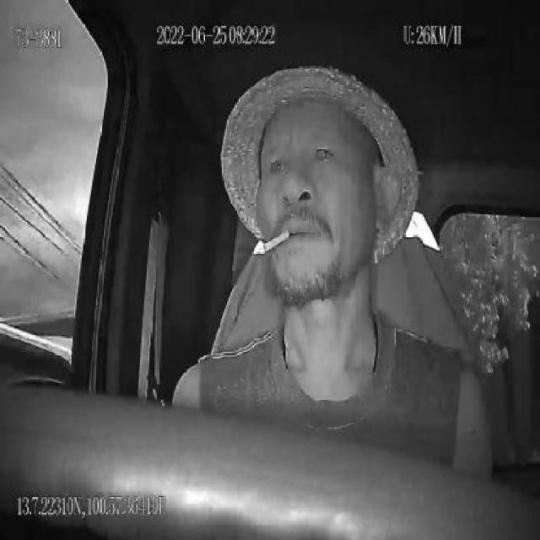smoking: (259, 230, 293, 261)
